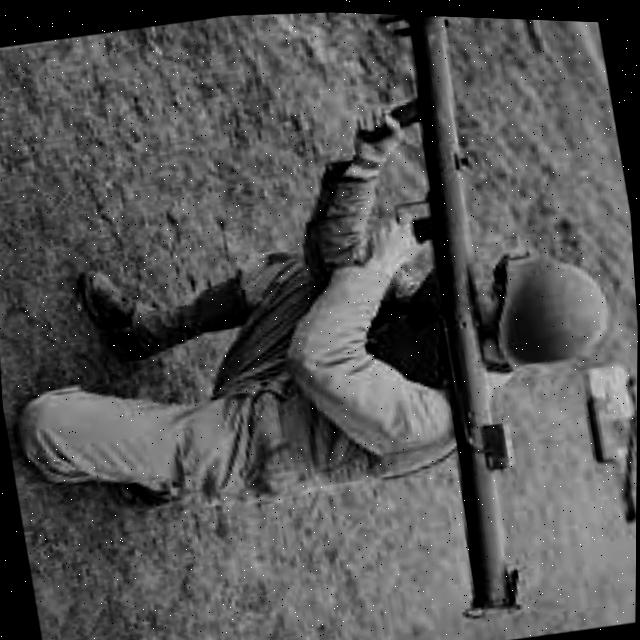rocket: (368, 11, 552, 619)
